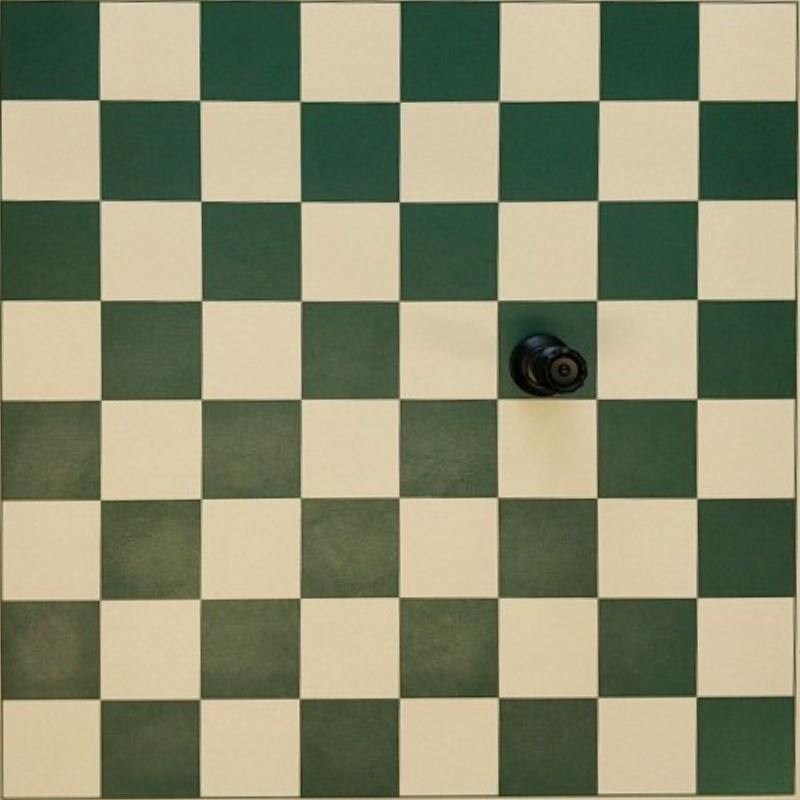black-queen: (510, 332, 587, 396)
